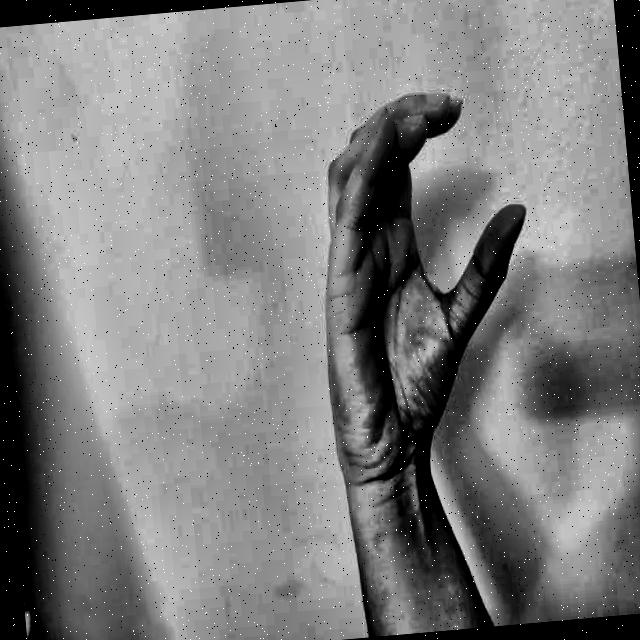A: (278, 58, 554, 482)
